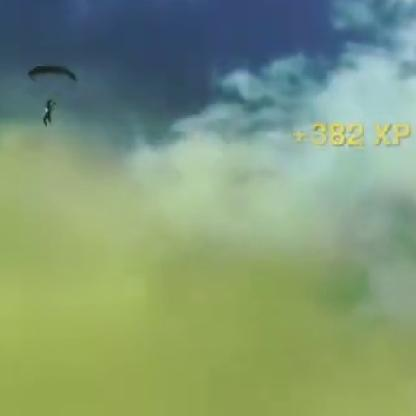enemy: (43, 102, 55, 126)
